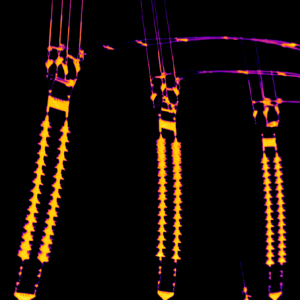insulator: (16, 113, 68, 261), (259, 151, 274, 266), (273, 152, 285, 261), (156, 132, 166, 260), (172, 138, 181, 260)
